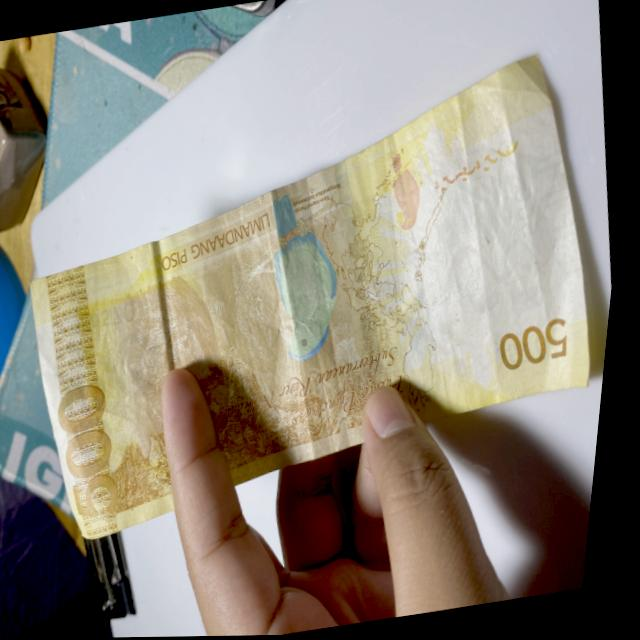500_big_parrot: (257, 188, 362, 369)
500_parrot_watermark: (384, 147, 435, 236)
value_watermark: (510, 178, 549, 243)
